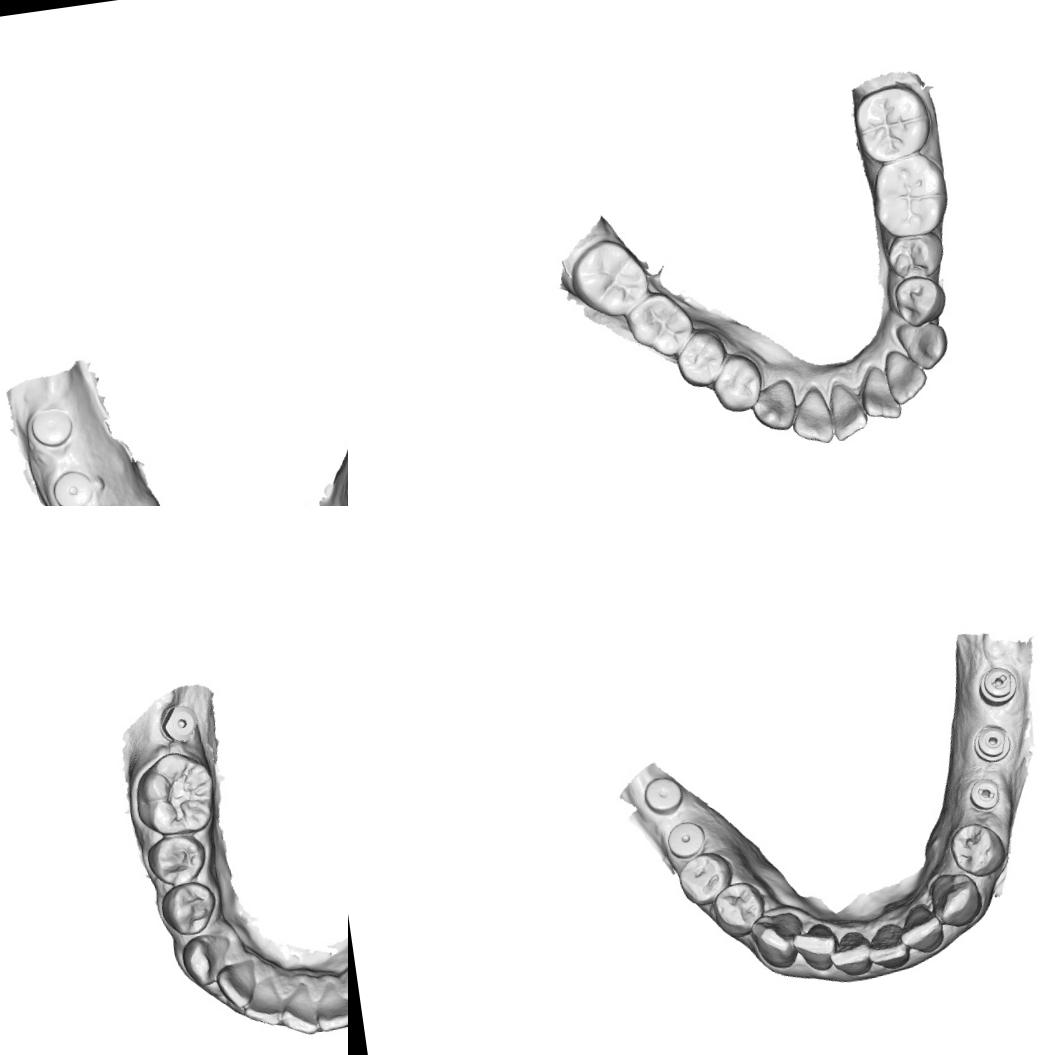canine: (747, 910, 806, 973), (926, 868, 985, 930), (178, 926, 235, 990), (895, 318, 952, 374), (748, 376, 800, 436)
implant: (28, 402, 77, 455), (152, 698, 202, 745), (640, 774, 686, 819), (47, 466, 98, 506), (663, 818, 709, 861), (970, 722, 1014, 764)
implant_minus: (975, 664, 1022, 710), (966, 776, 1004, 814)
incisor: (786, 382, 836, 448), (212, 956, 264, 1014), (895, 900, 947, 958), (826, 377, 871, 443), (882, 346, 930, 407), (790, 920, 842, 976), (856, 362, 902, 424), (237, 977, 289, 1031), (274, 981, 322, 1038), (826, 926, 876, 980), (864, 919, 913, 972), (308, 981, 348, 1038)
molar: (127, 748, 222, 842), (566, 233, 654, 323), (868, 153, 954, 242), (850, 80, 936, 167), (622, 287, 698, 362)
premolar: (156, 878, 224, 940), (946, 816, 1009, 881), (670, 324, 732, 390), (708, 350, 766, 416), (145, 830, 211, 888), (674, 849, 736, 909), (708, 878, 768, 940), (891, 272, 950, 330), (884, 230, 947, 282)
